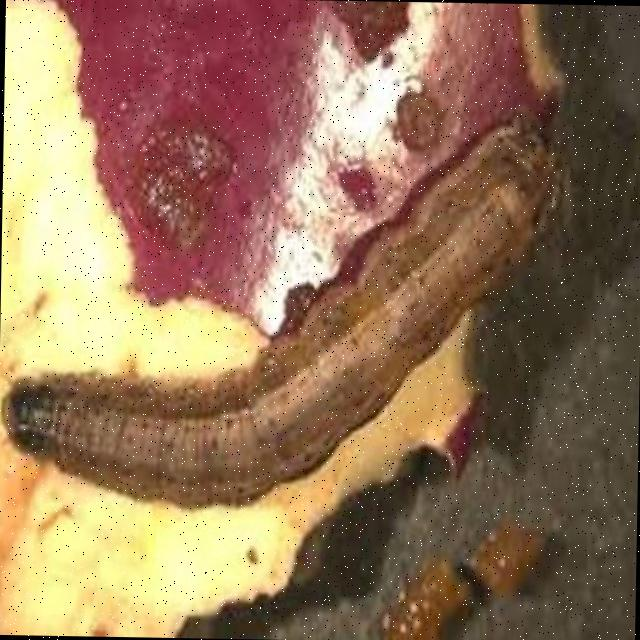worm: (1, 101, 568, 521)
